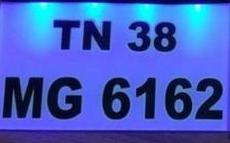1: (135, 75, 156, 119)
2: (193, 75, 223, 120)
3: (126, 19, 151, 51)
6: (99, 76, 133, 120), (163, 76, 192, 120)
8: (152, 19, 177, 52)
G: (46, 75, 82, 119)
M: (1, 75, 42, 119)
N: (81, 18, 111, 51)
T: (51, 18, 80, 51)
